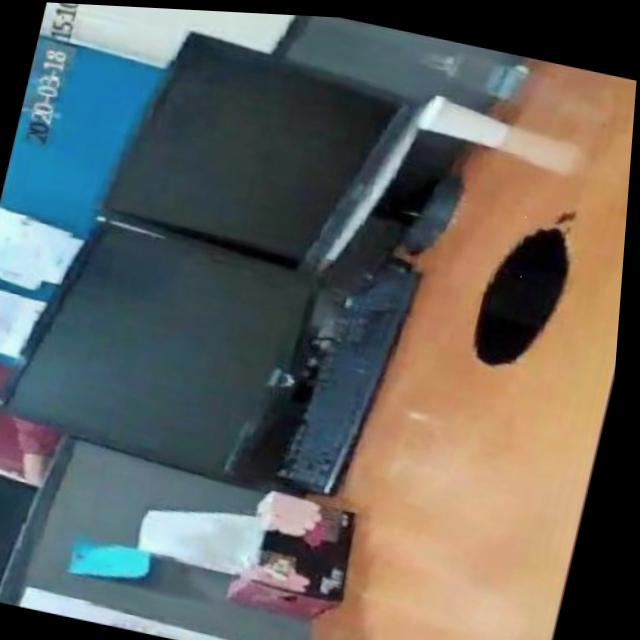spillage: (483, 216, 579, 359)
